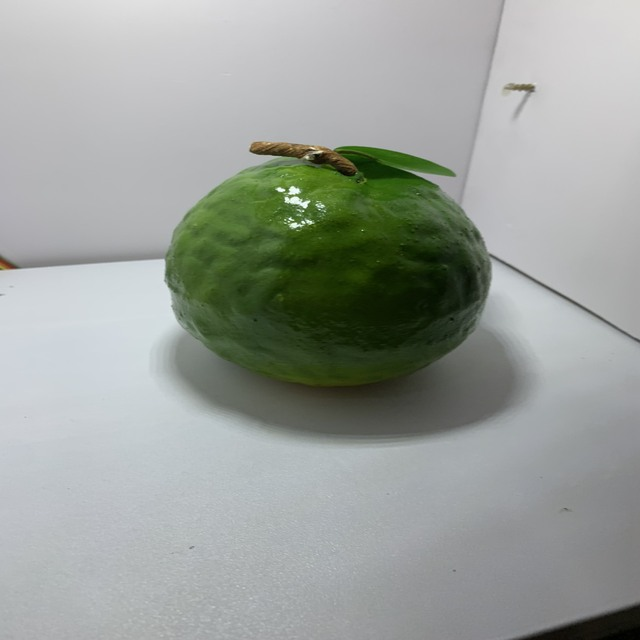Cam xanh: (156, 135, 499, 396)
